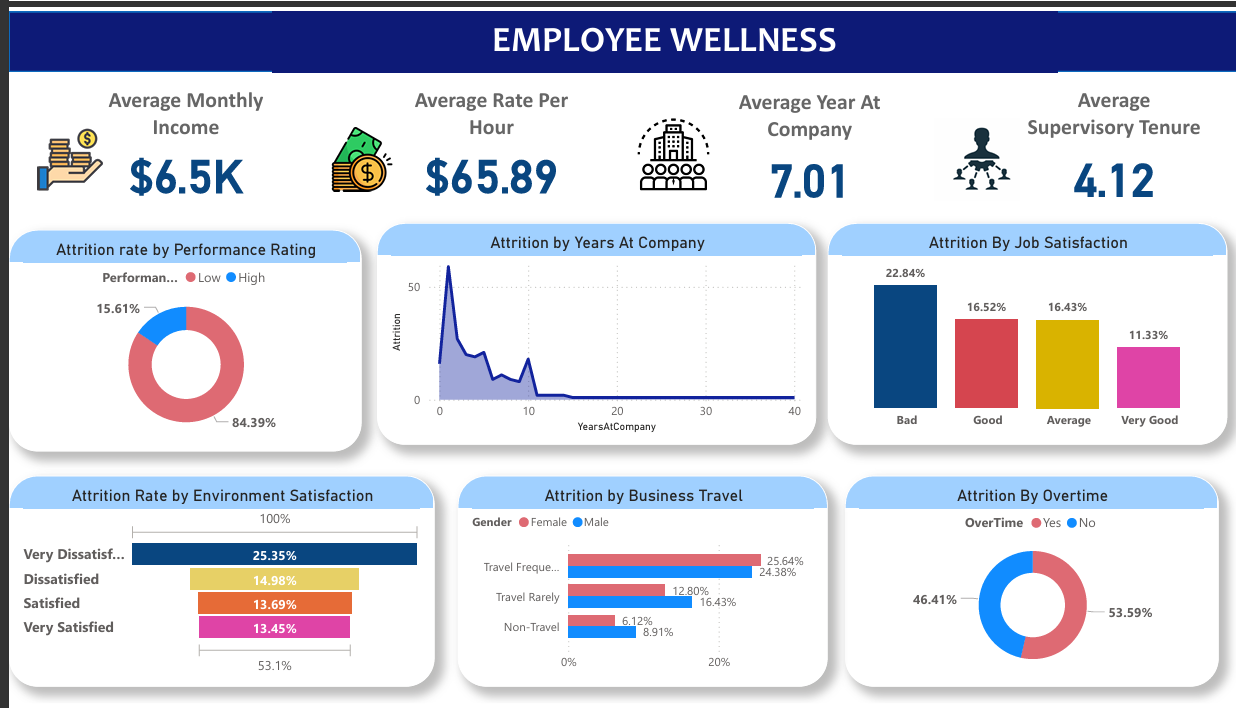

This screenshot's page, from the dashboard's own definition file:
{"tool":"powerbi","page":{"name":"Page 2","canvas":[1280,720],"ordinal":1},"visuals":[{"type":"gauge","title":"Rate","fields":{"Y":["Table.female attrition"]},"box":[457,88.4,166.3,101.2],"z":0},{"type":"gauge","title":"Rate","fields":{"Y":["Table.female attrition percent"]},"box":[1119.8,86,160.5,120.9],"z":1000},{"type":"shape","box":[0,0,1279.9,62.3],"z":2000},{"type":"textbox","box":[273.8,0,816.6,63.6],"z":3000},{"type":"clusteredColumnChart","title":"Attrition Age and Gender","fields":{"Category":["HR-Employee-Attrition.age range"],"Y":["Table.Attrition"],"Series":["HR-Employee-Attrition.Gender"]},"box":[12.4,484.5,445.1,219.7],"z":4000},{"type":"clusteredColumnChart","title":"Attrition by distance from home and Gender","fields":{"Category":["HR-Employee-Attrition.distance from home"],"Y":["Table.Attrition"],"Series":["HR-Employee-Attrition.Gender"]},"box":[515.1,211.6,424.4,246.5],"z":5000},{"type":"funnel","title":"Attrition By Education Field","fields":{"Category":["HR-Employee-Attrition.EducationField"],"Y":["Table.Attrition"]},"box":[862,484.5,410.1,219.7],"z":6000},{"type":"stackedAreaChart","title":"Attrition by Years At Company","fields":{"Category":["HR-Employee-Attrition.YearsAtCompany"],"Y":["Table.Attrition"]},"box":[0,211.6,495.4,246.5],"z":7000},{"type":"donutChart","title":"Attrition rate by Performance Rating","fields":{"Category":["HR-Employee-Attrition.PerformanceRating"],"Y":["Table.Attrition"]},"box":[478.9,484.5,367.3,219.7],"z":9000},{"type":"card","title":"Male Employee","fields":{"Values":["Table.male"]},"box":[106.3,85.6,167.5,101.5],"z":10000},{"type":"card","title":"Male Attrition","fields":{"Values":["Table.male attrition"]},"box":[289.7,85.6,167.5,101.5],"z":11000},{"type":"card","title":"Female Employee","fields":{"Values":["Table.female"]},"box":[745.7,88,176,101.5],"z":12000},{"type":"card","title":"Female Attrition","fields":{"Values":["Table.female attrition"]},"box":[948.6,85.6,167.5,101.5],"z":13000},{"type":"image","box":[661.3,97.8,84.3,77],"z":16000},{"type":"image","box":[34.2,94.1,80.7,77],"z":17000},{"type":"clusteredBarChart","fields":{"Category":["HR-Employee-Attrition.EnvironmentSatisfaction"],"Y":["Table.Attrition"]},"box":[958.1,211.6,322.1,246.5],"z":18000}]}

Visuals, with their boxes in screenshot pixels (x1, y1, x2, y2), scaled from the page's 1280x720 canvas onto the 1236x708 screenshot:
"Rate" gauge: x1=441, y1=87, x2=602, y2=186
"Rate" gauge: x1=1081, y1=85, x2=1235, y2=203
shape: x1=0, y1=0, x2=1235, y2=61
textbox: x1=264, y1=0, x2=1053, y2=63
"Attrition Age and Gender" clusteredColumnChart: x1=12, y1=476, x2=442, y2=692
"Attrition by distance from home and Gender" clusteredColumnChart: x1=497, y1=208, x2=907, y2=450
"Attrition By Education Field" funnel: x1=832, y1=476, x2=1228, y2=692
"Attrition by Years At Company" stackedAreaChart: x1=0, y1=208, x2=478, y2=450
"Attrition rate by Performance Rating" donutChart: x1=462, y1=476, x2=817, y2=692
"Male Employee" card: x1=103, y1=84, x2=264, y2=184
"Male Attrition" card: x1=280, y1=84, x2=441, y2=184
"Female Employee" card: x1=720, y1=87, x2=890, y2=186
"Female Attrition" card: x1=916, y1=84, x2=1078, y2=184
image: x1=639, y1=96, x2=720, y2=172
image: x1=33, y1=93, x2=111, y2=168
clusteredBarChart - HR-Employee-Attrition.EnvironmentSatisfaction x Table.Attrition: x1=925, y1=208, x2=1235, y2=450
